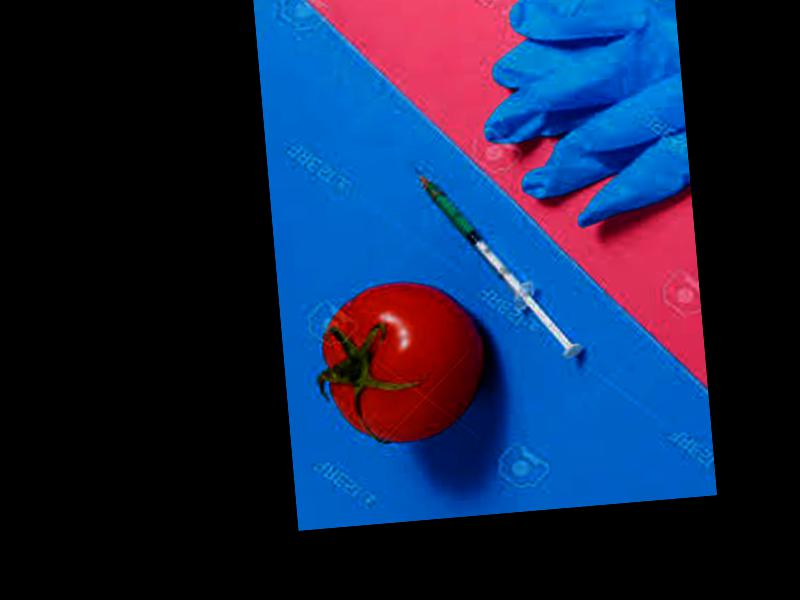Tomato: (319, 275, 493, 445)
